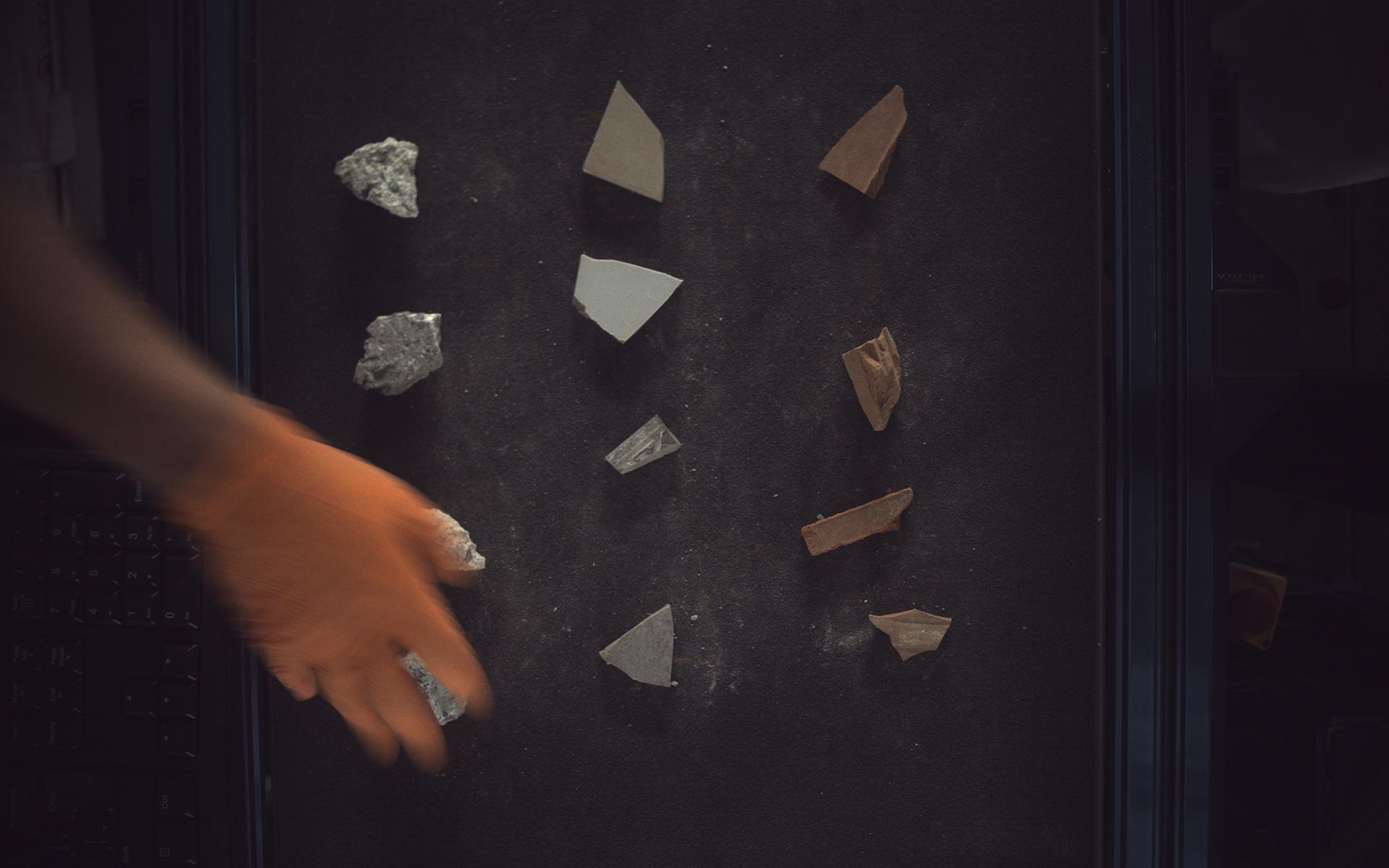brick: (820, 84, 909, 197), (803, 488, 914, 556), (844, 327, 903, 431), (872, 610, 953, 661)
concrete: (354, 312, 441, 395), (335, 137, 418, 217)
tile: (583, 81, 665, 201), (575, 254, 684, 342), (600, 605, 675, 688), (606, 416, 681, 475)
